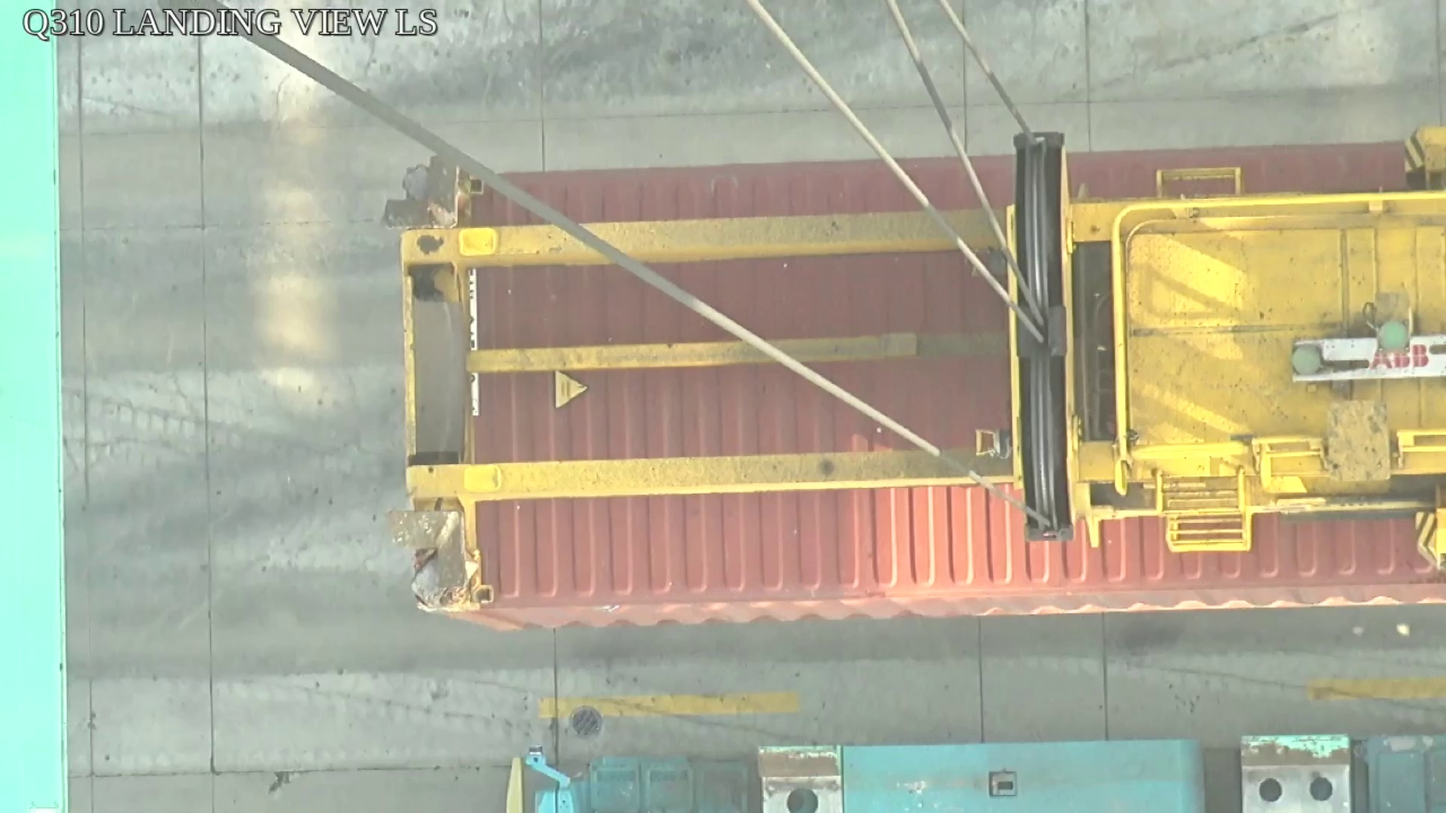aa: (1008, 133, 1081, 539)
